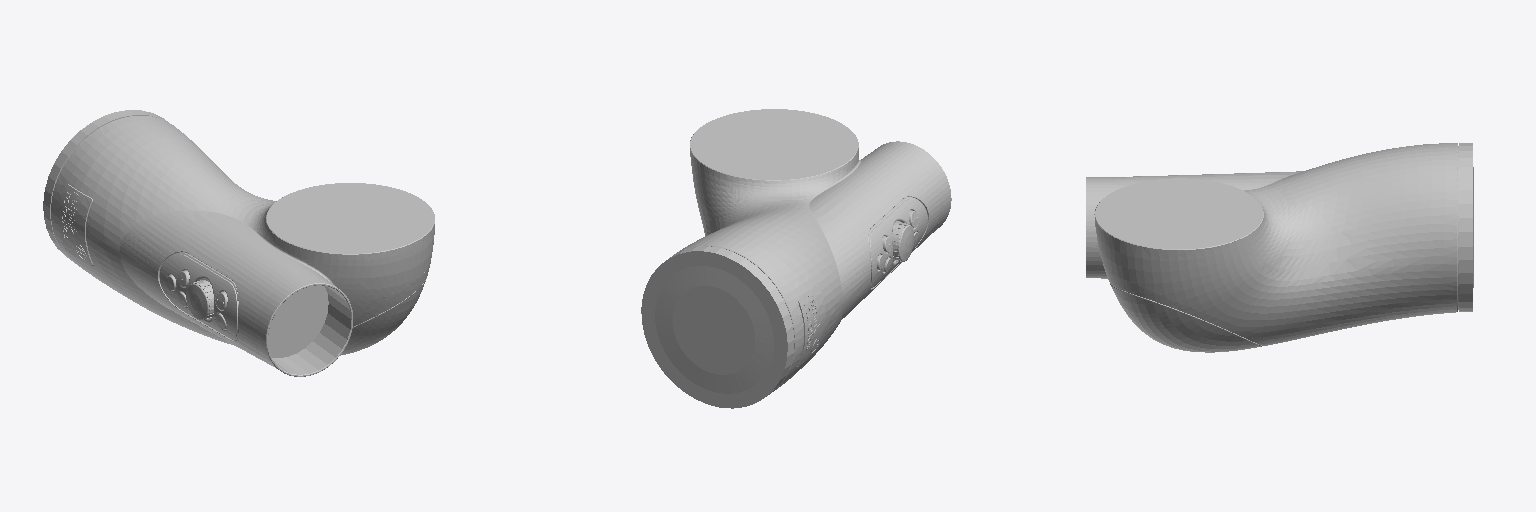
Rendered from right_l0_visuals.obj.
3 renders of one model, left to right at view 1: azimuth 30°, elevation 25°; view 2: azimuth 150°, elevation 25°; view 3: azimuth 270°, elevation 25°, orthographic.
Bounding box in the file's own units: 0.2181 × 0.1489 × 0.312.